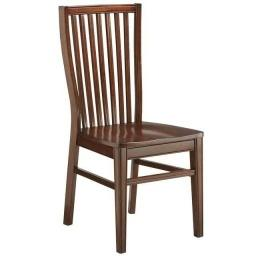Chair: (57, 5, 204, 253)
